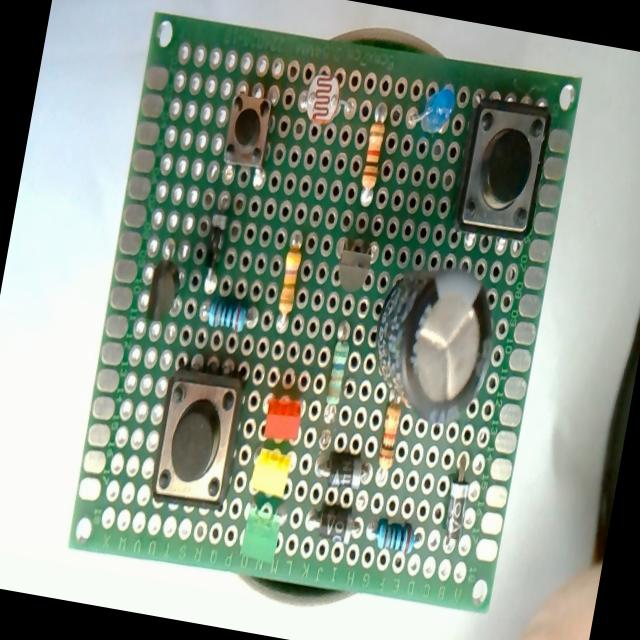Electrolytic capacitor: (362, 260, 503, 430)
cds: (290, 62, 361, 138)
diode: (436, 451, 476, 558), (198, 192, 232, 294), (308, 447, 374, 498), (302, 502, 363, 550)
led: (401, 77, 461, 146), (248, 446, 292, 500), (260, 392, 304, 446)
resistor: (320, 335, 350, 425), (274, 242, 304, 328), (357, 119, 386, 204), (374, 400, 404, 481), (364, 516, 418, 556), (202, 296, 248, 334)
switch: (450, 94, 552, 244), (148, 365, 246, 510), (217, 89, 280, 190)
transistor: (327, 227, 382, 300), (144, 258, 184, 326)
